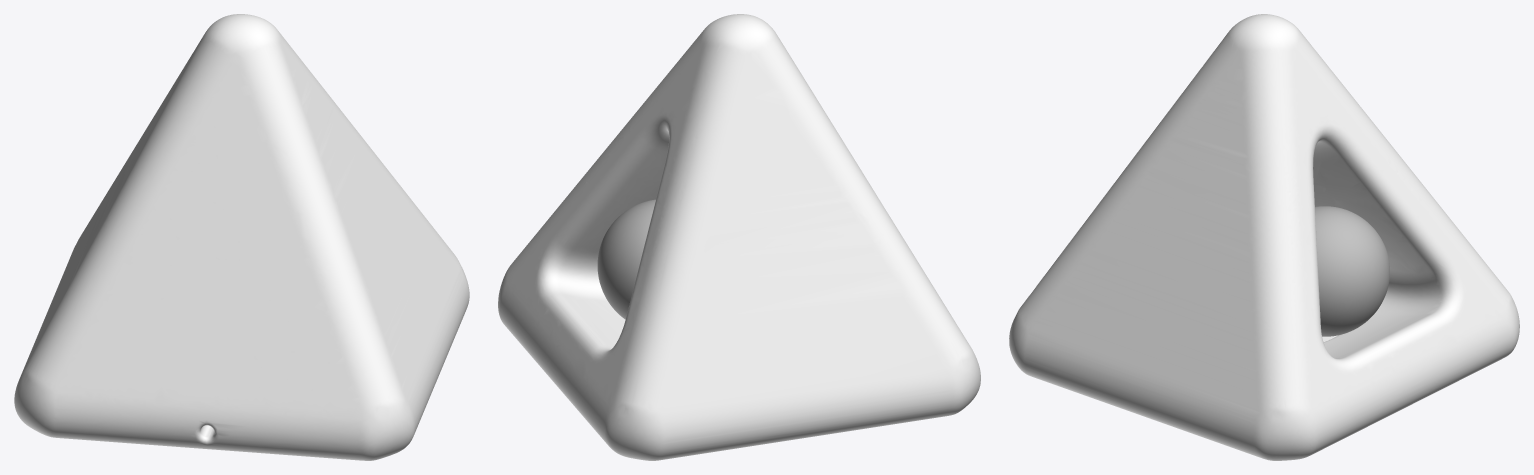
File: lamp-final.glb
3 views of the same model, side by side, from view 1: azimuth 30°, elevation 25°; view 2: azimuth 150°, elevation 25°; view 3: azimuth 270°, elevation 25° (orthographic). The views are drawn at different scales.
Parts seen in each view (by area): view 1: Gravity; view 2: Gravity; view 3: Gravity.
Part boxes in pixels (bbox=[...]): Gravity: bbox=[14, 14, 469, 460]; Gravity: bbox=[498, 14, 980, 460]; Gravity: bbox=[1009, 14, 1519, 460].
Bounding box in the file's own units: 235 × 175 × 235.
1 material, 1 textured.
